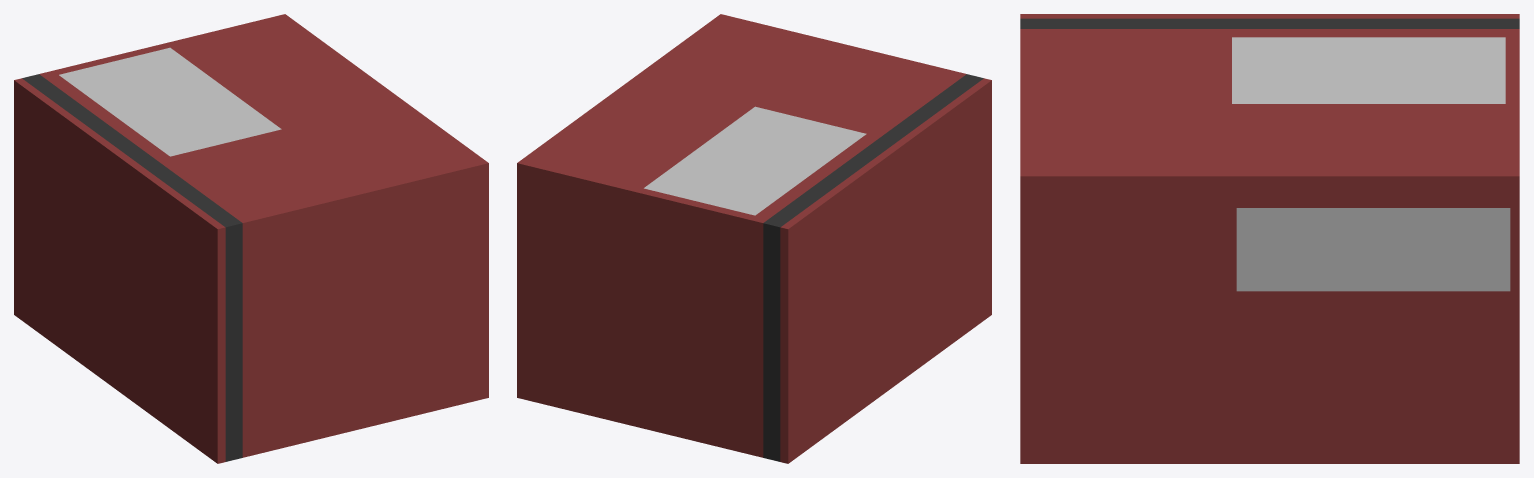
Rendered from model_small_box_02.fbx.
3 views of the same model, side by side, from view 1: azimuth 30°, elevation 25°; view 2: azimuth 150°, elevation 25°; view 3: azimuth 270°, elevation 25° (orthographic). The views are drawn at different scales.
Parts seen in each view (by area): view 1: model_small_box_02; view 2: model_small_box_02; view 3: model_small_box_02.
Part boxes in pixels (bbox=[...]): model_small_box_02: bbox=[14, 14, 488, 463]; model_small_box_02: bbox=[517, 14, 991, 463]; model_small_box_02: bbox=[1020, 14, 1519, 463].
Size of the model in its own units: 18.03 by 14.91 by 23.46.
1 material, 1 textured.
